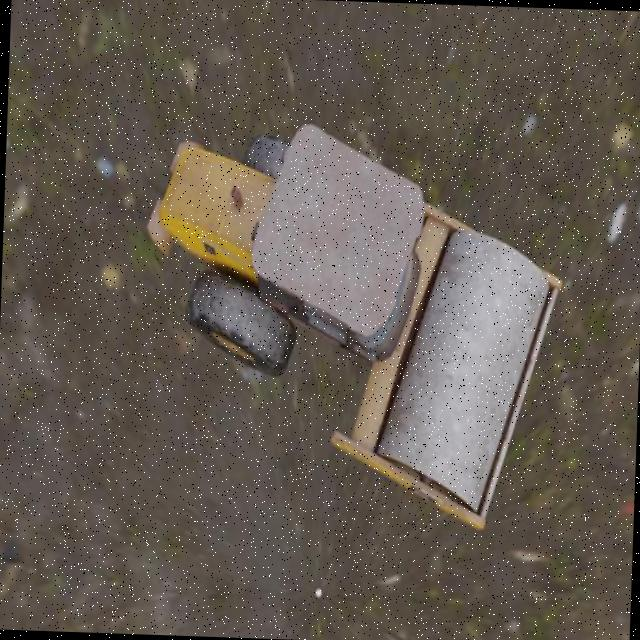Roller: (136, 116, 567, 532)
